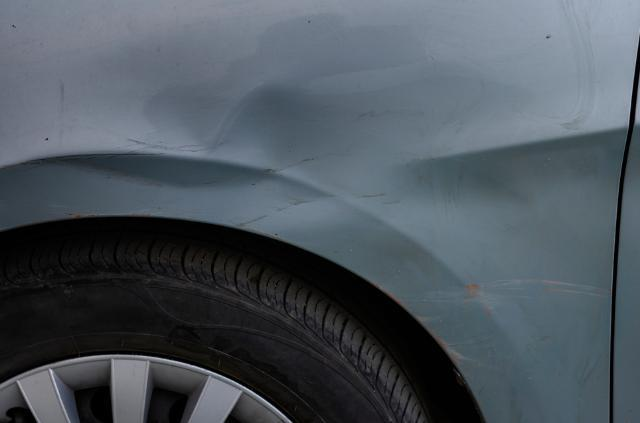Fender: (9, 48, 558, 361)
